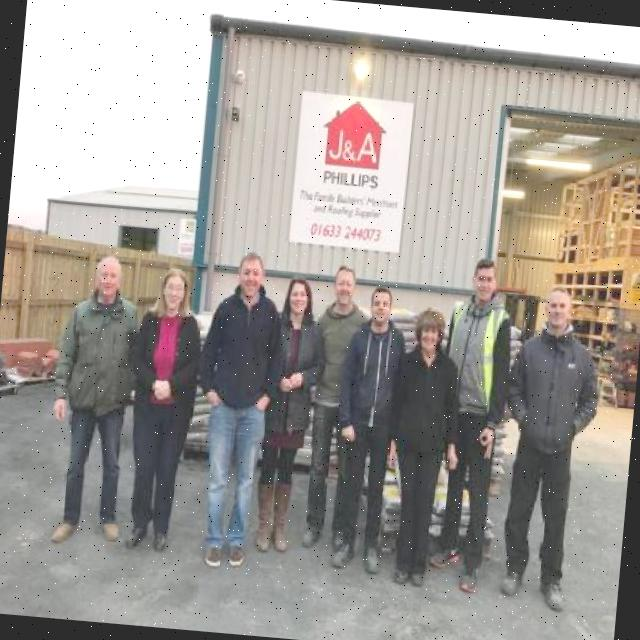vest: (442, 298, 513, 409)
